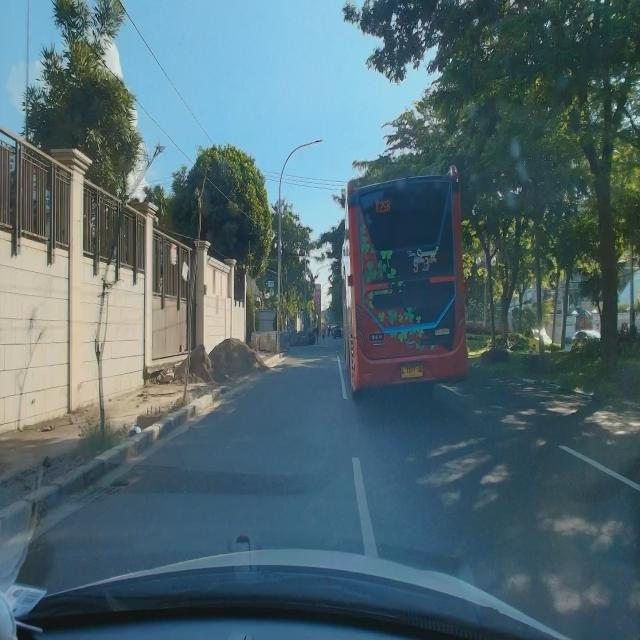bus: (336, 162, 472, 401)
license-plate: (401, 364, 423, 379)
